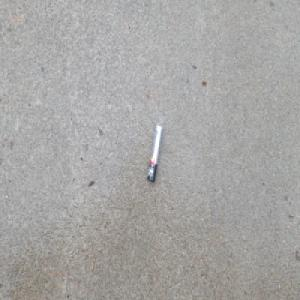Battery: (146, 123, 162, 184)
